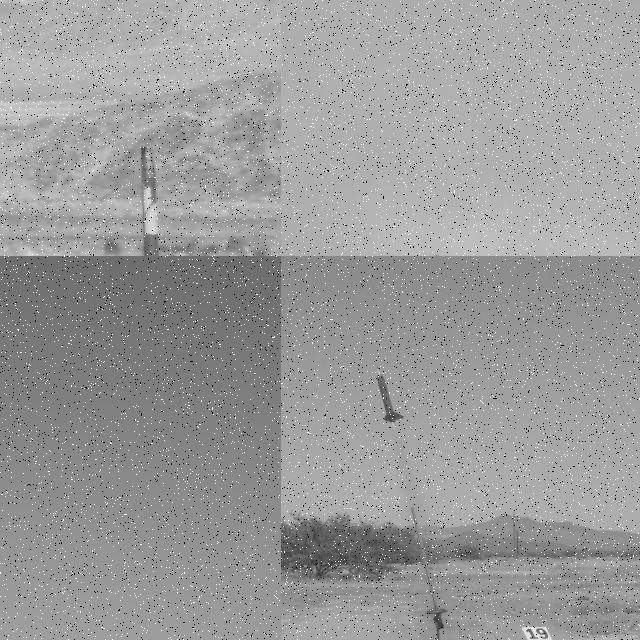Rocket: (131, 142, 170, 256), (376, 365, 405, 423)
